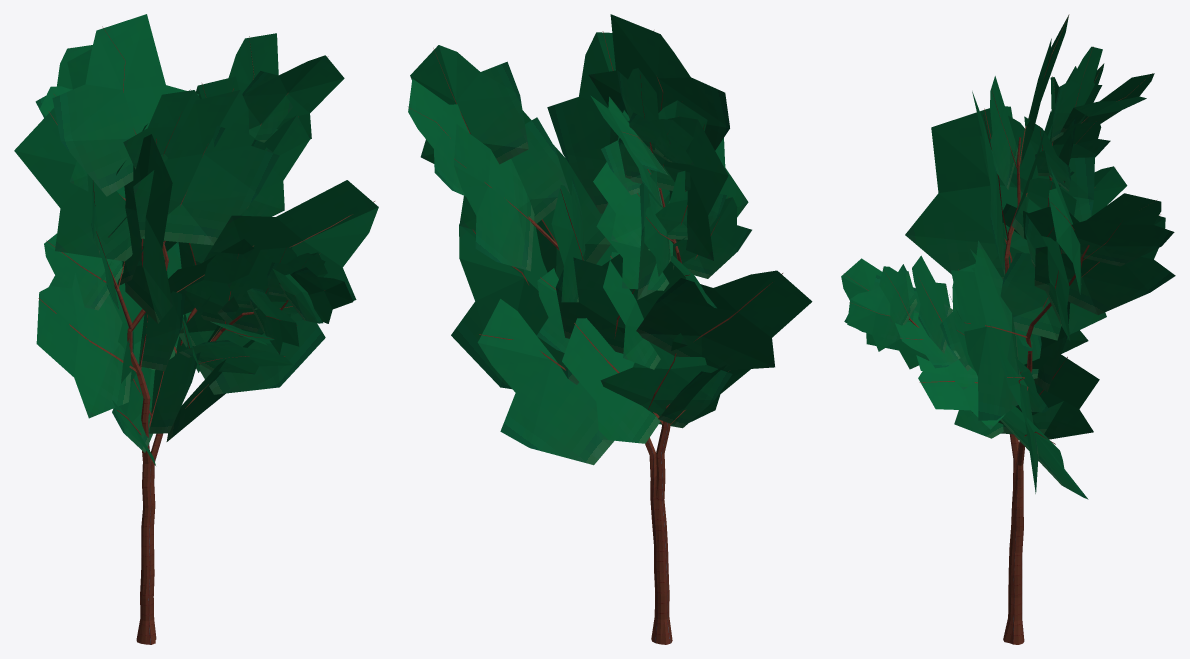
Rendered from Birch_Tree_01.fbx.
The picture shows the model from 3 angles, left to right: view 1: azimuth 30°, elevation 25°; view 2: azimuth 150°, elevation 25°; view 3: azimuth 270°, elevation 25°; orthographic projection. The views are drawn at different scales.
Parts seen in each view (by area): view 1: SM_Tree_Birch_01.mo; view 2: SM_Tree_Birch_01.mo; view 3: SM_Tree_Birch_01.mo.
Part boxes in pixels (bbox=[...]): SM_Tree_Birch_01.mo: bbox=[14, 14, 378, 644]; SM_Tree_Birch_01.mo: bbox=[408, 14, 812, 644]; SM_Tree_Birch_01.mo: bbox=[841, 14, 1175, 644].
Size of the model in its own units: 1003 by 1680 by 821.
Materials: 2 (2 with a texture image).
